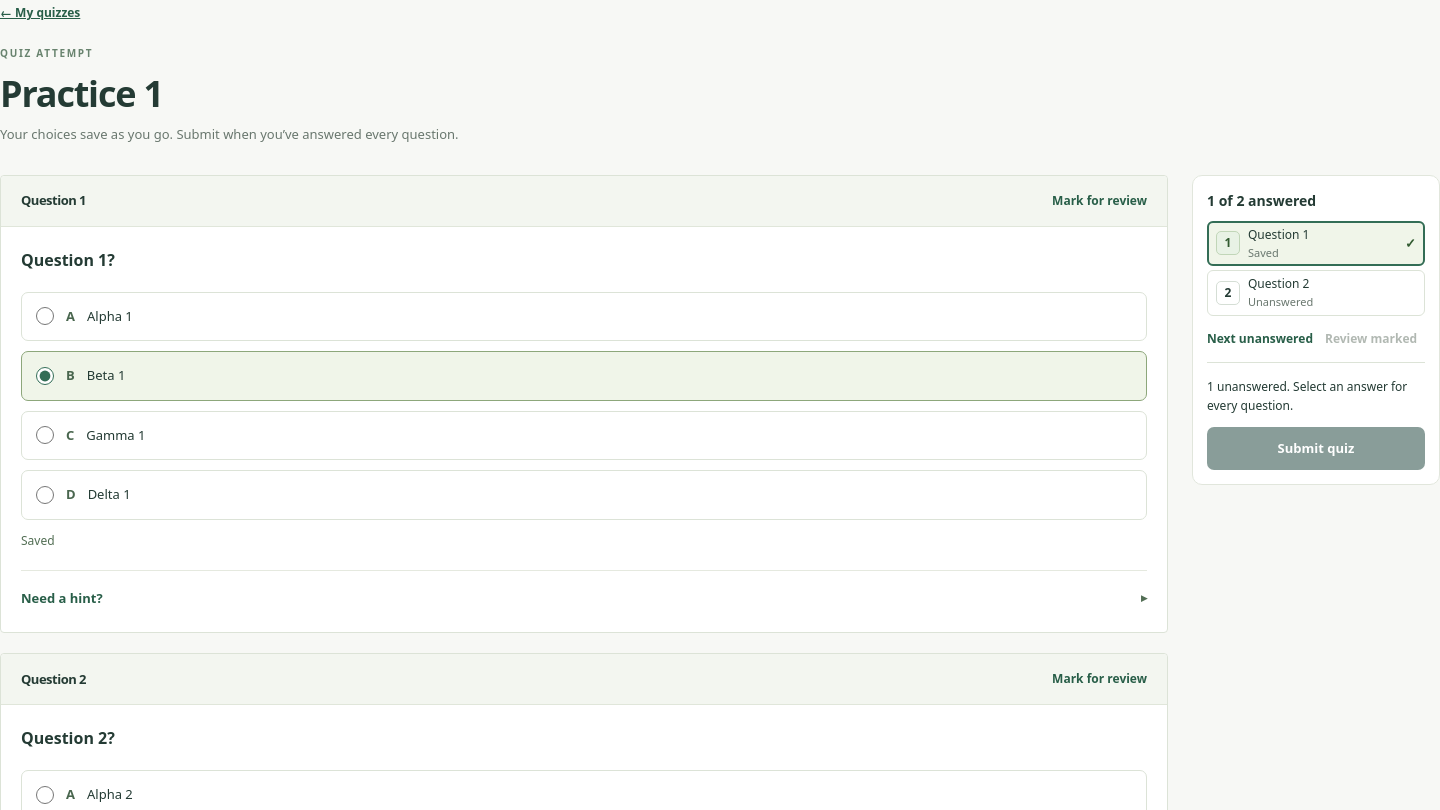
student workspace › preserves a failed selection and explicitly retries it without submitting
Click the radio button labelled "A Alpha 2".
click(45, 795)  # box [36,786,54,804]
(page scrolled)
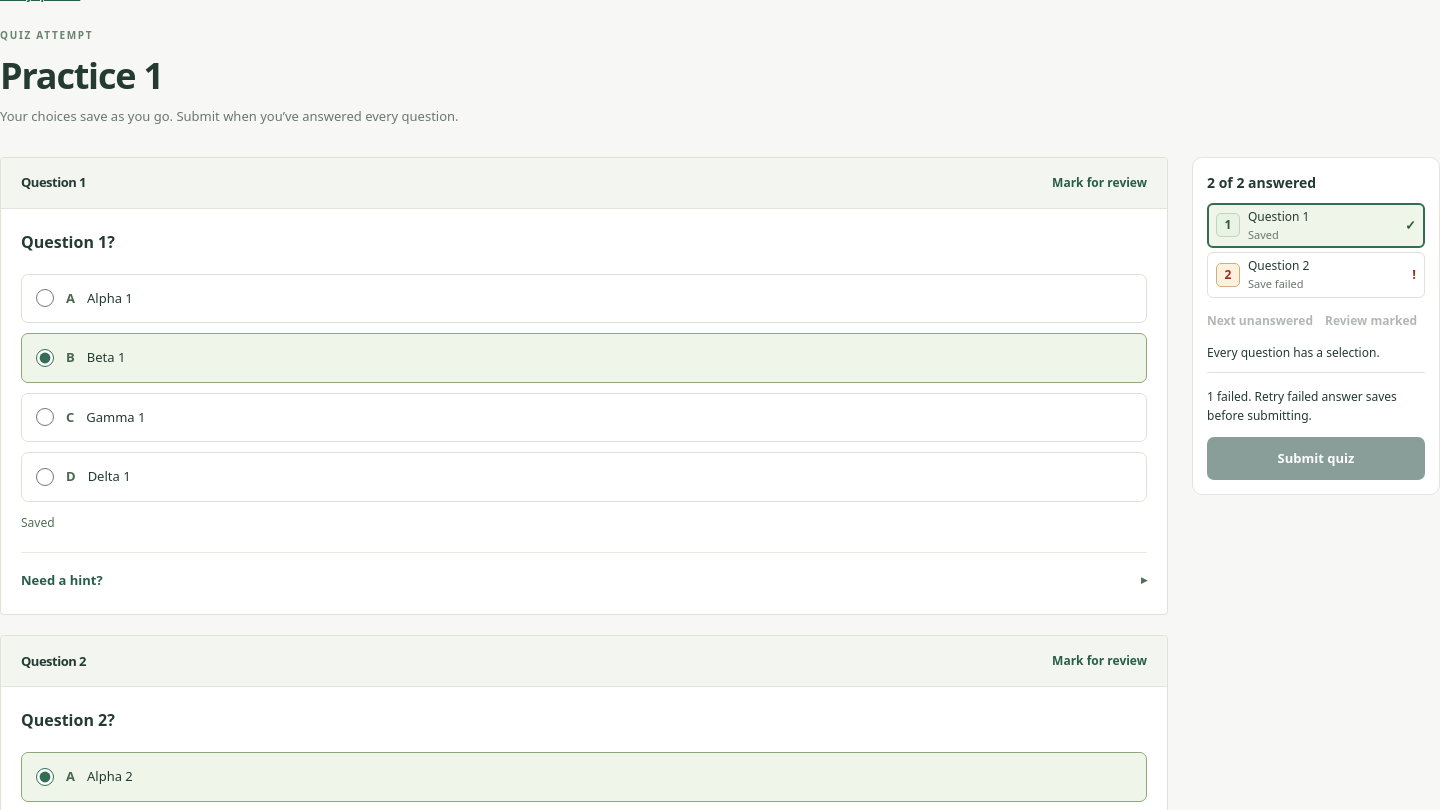
Result: the radio button labelled "A Alpha 2" is checked at [36,768,54,786]
Click the button "Submit quiz".
click(1316, 459)  # box [1207,437,1425,480]
(page scrolled)
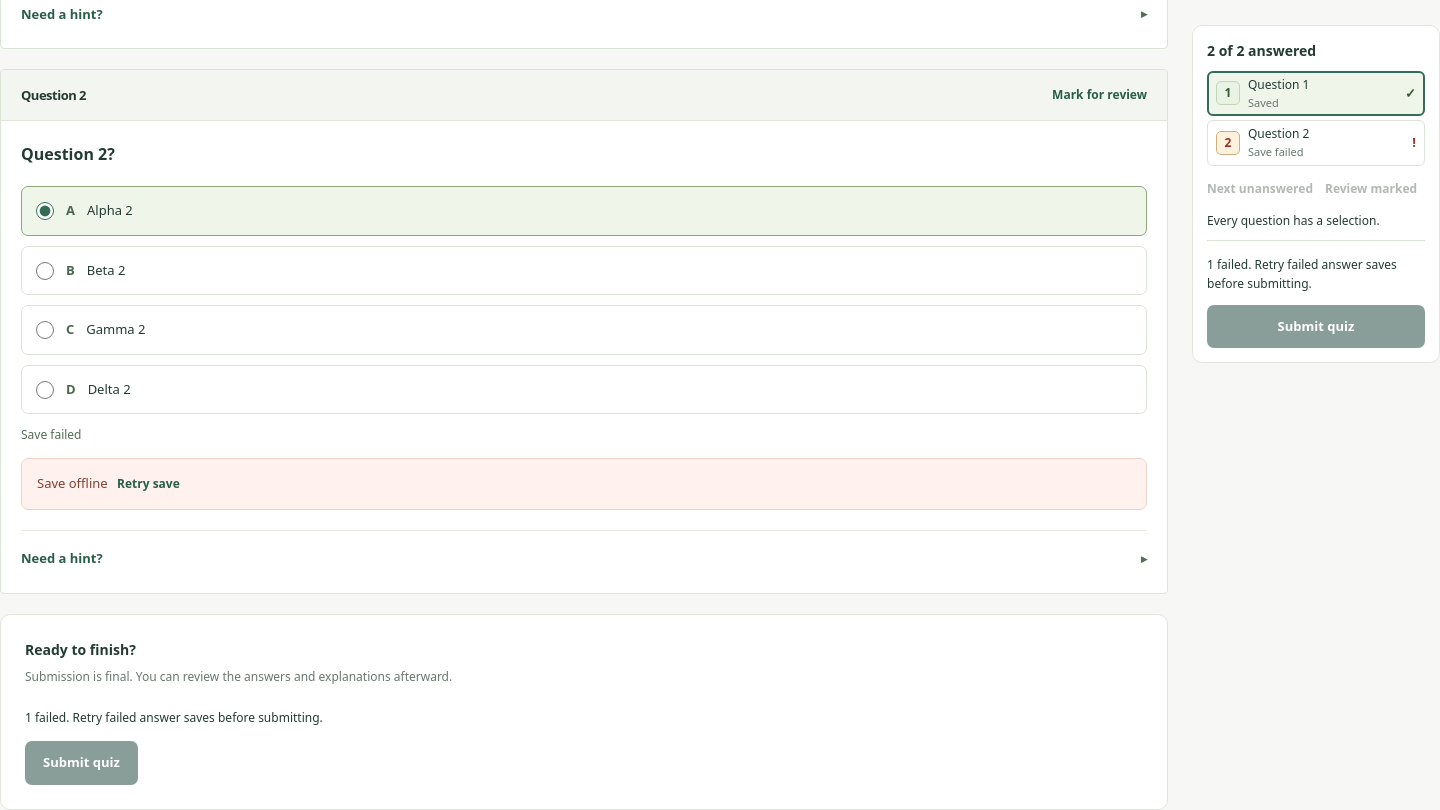
Expected: the text "1 failed. Retry failed answer saves before submitting." is shown 2 times, [1207,254,1425,292]; [25,709,323,726]
Click the button "Retry save".
click(148, 484)  # box [117,471,180,497]
(page scrolled)
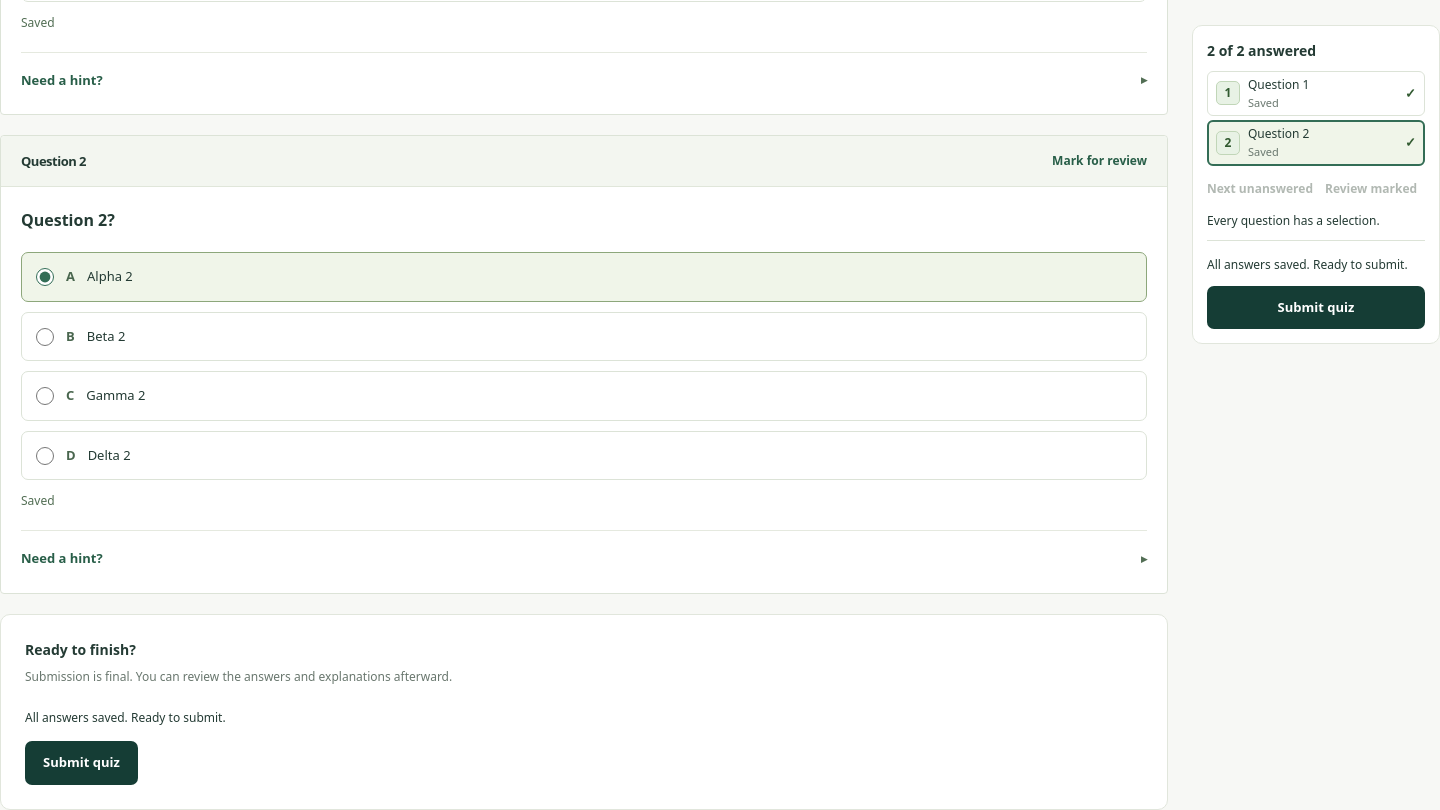
Expected: the text "Saved" is shown 4 times, [1248,94,1279,109]; [1248,144,1279,158]; [21,14,55,31]; [21,492,55,509]
Result: the text "Retry failed answer saves before submitting" is gone
